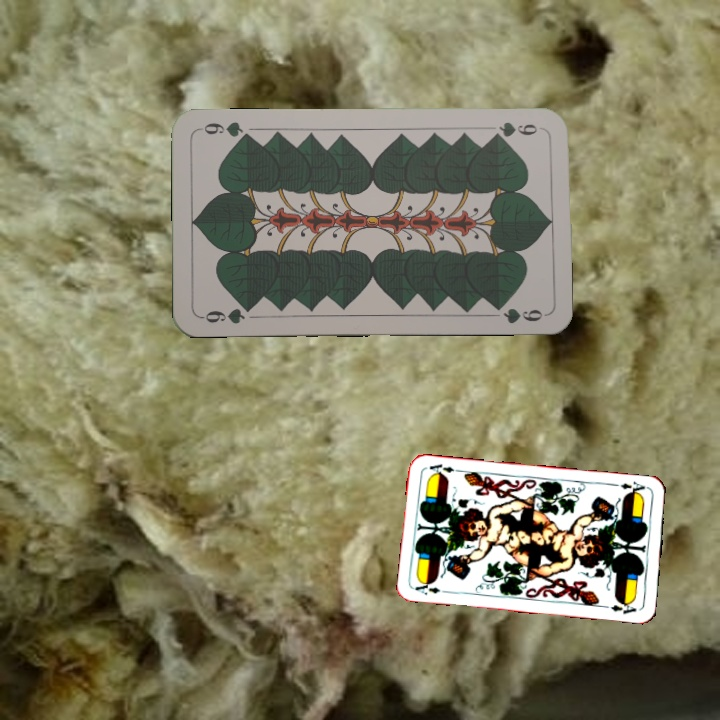EA: (411, 578, 452, 598), (616, 477, 651, 498)
G9: (197, 301, 256, 326), (487, 118, 540, 141)
